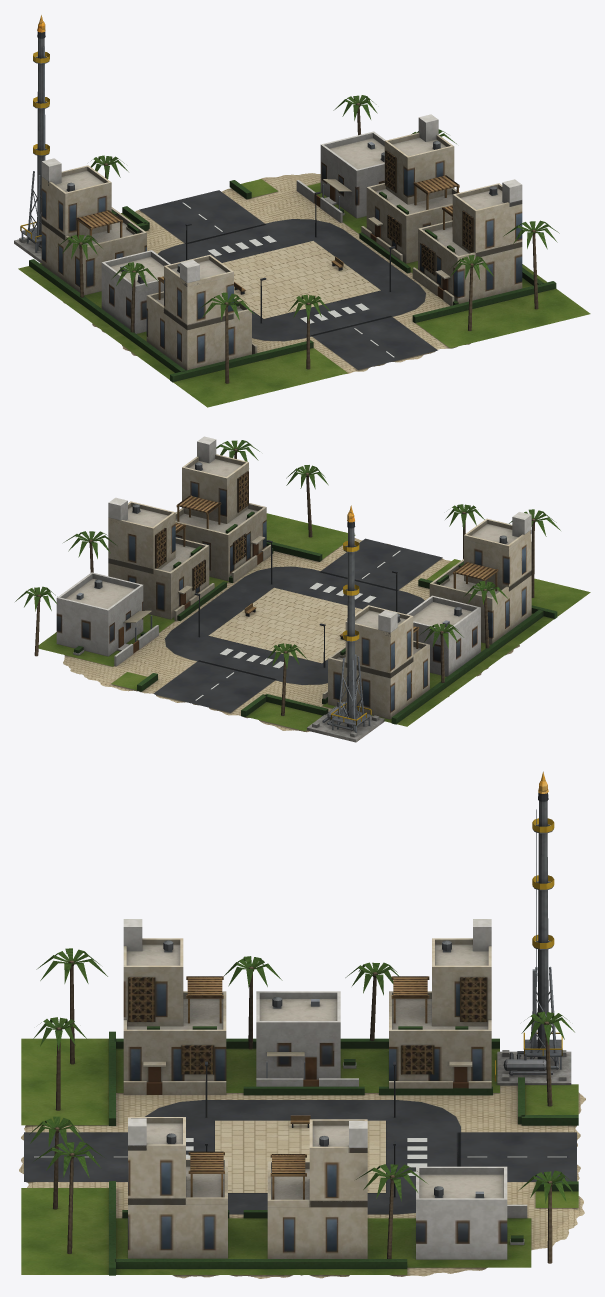
The model's file is modern-town-small-a-levant.glb.
3 views of the same model, one above another, from view 1: azimuth 30°, elevation 25°; view 2: azimuth 150°, elevation 25°; view 3: azimuth 270°, elevation 25° (orthographic). The views are drawn at different scales.
Parts seen in each view (by area): view 1: LOD0; view 2: LOD0; view 3: LOD0.
Boxes of the visible parts, bbox=[...] form: LOD0: bbox=[14, 15, 590, 407]; LOD0: bbox=[15, 436, 590, 742]; LOD0: bbox=[19, 771, 585, 1278].
Size of what is drawn, in the model's own units: 4.1 by 2.3 by 4.05.
Materials: 2 (2 with a texture image).
